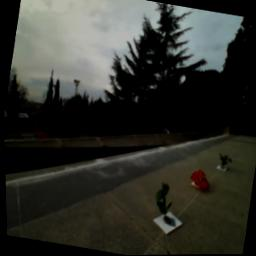herb: (150, 181, 176, 221), (217, 155, 232, 171)
wild: (187, 169, 212, 195)
